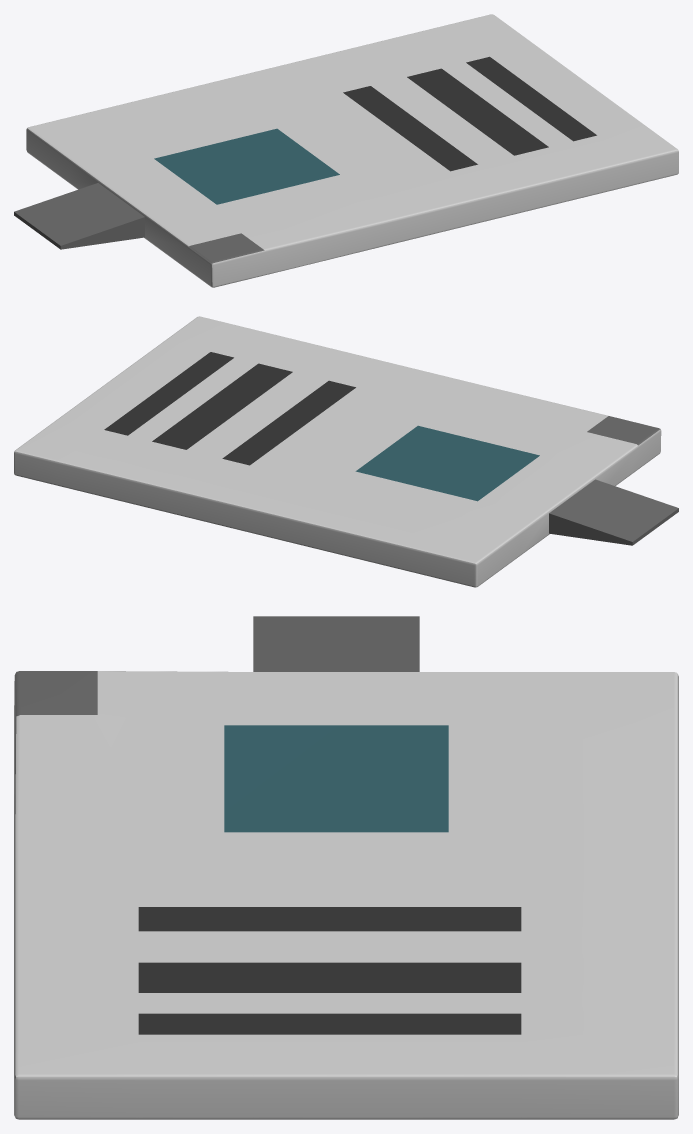
File: Ausweis.fbx
The picture shows the model from 3 angles, top to bottom: view 1: azimuth 30°, elevation 25°; view 2: azimuth 150°, elevation 25°; view 3: azimuth 270°, elevation 25°; orthographic projection. The views are drawn at different scales.
Parts seen in each view (by area): view 1: Ausweis; view 2: Ausweis; view 3: Ausweis.
Boxes of the visible parts, x1=… form: Ausweis: x1=14, y1=14, x2=678, y2=287; Ausweis: x1=14, y1=316, x2=678, y2=587; Ausweis: x1=14, y1=616, x2=678, y2=1119.
Bounding box in the file's own units: 3.22 × 0.1449 × 1.89.
